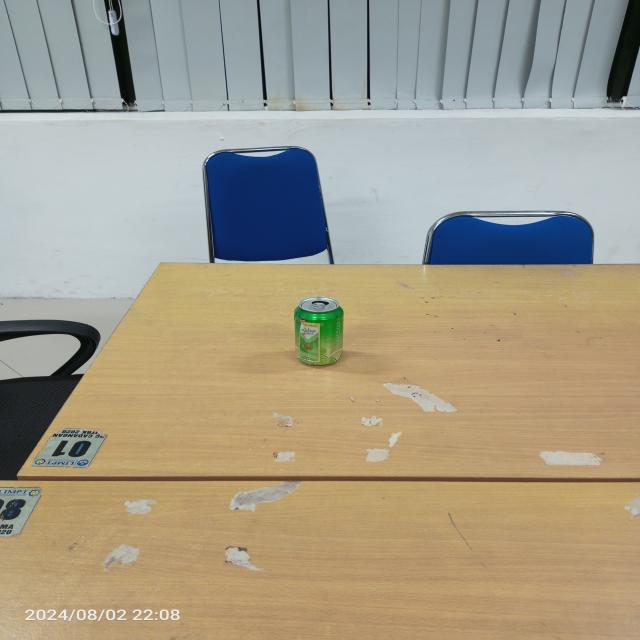ademsarikaleng: (292, 296, 345, 366)
